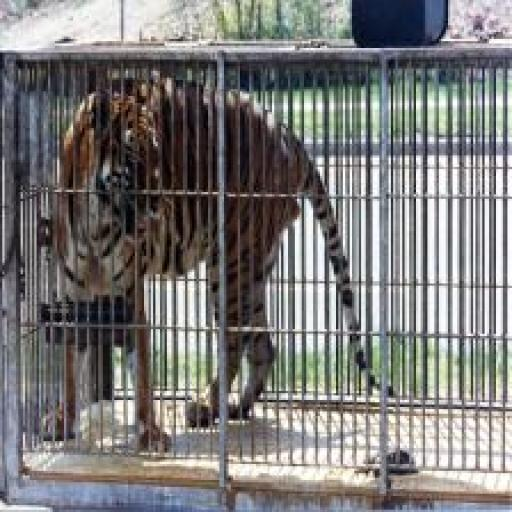Tiger: (59, 89, 416, 439)
